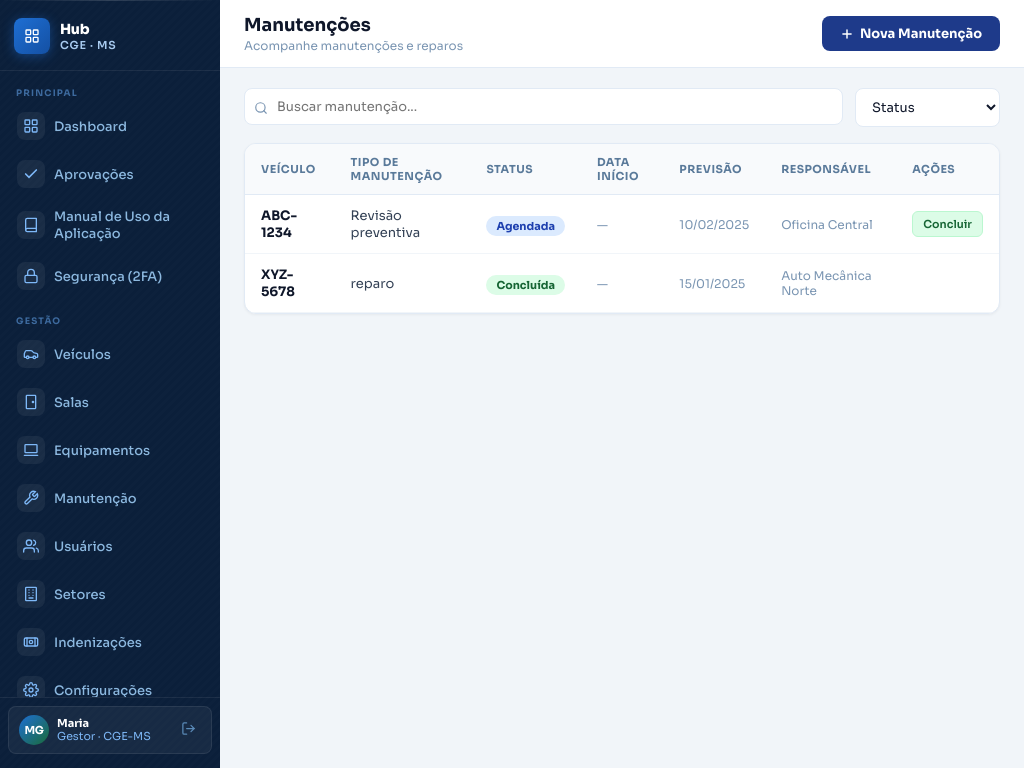
Test: Manutencao — filtros › filtro Todas mostra ambas as manutenções
The image size is (1024, 768).
Expected: the text "ABC-1234" is shown, [245,194,334,254]
Select "Agendada" in the dropdown at (928, 108), box [855,88,1000,127]
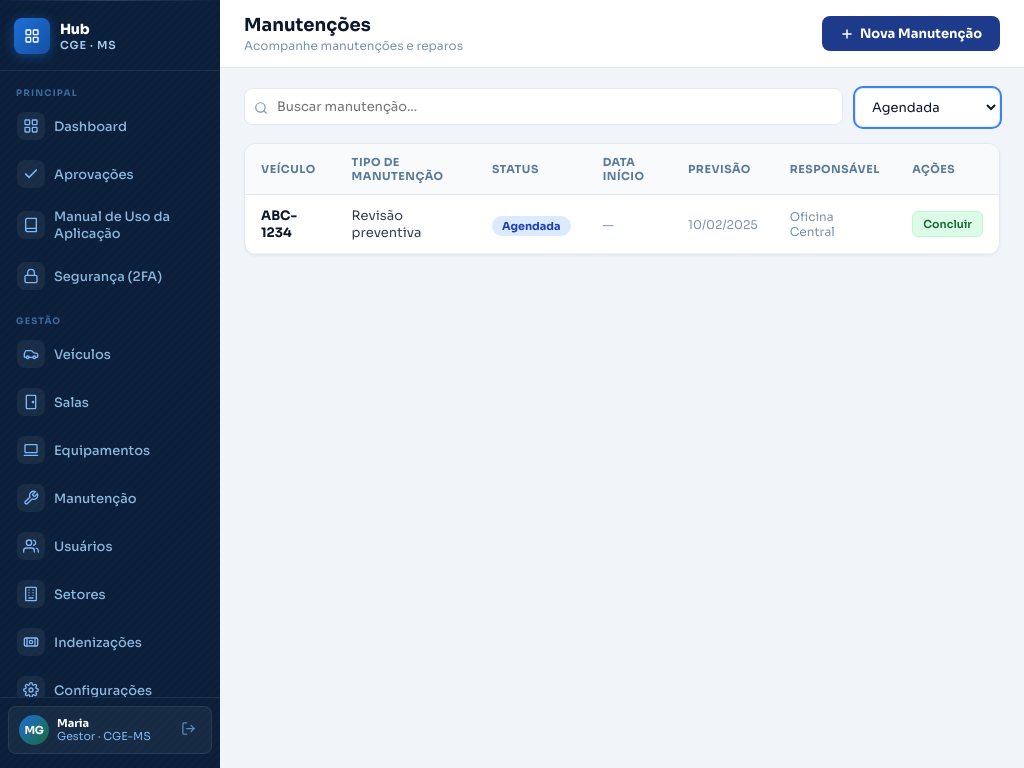
Select "Status" in the dropdown at (928, 108), box [855,88,1000,127]
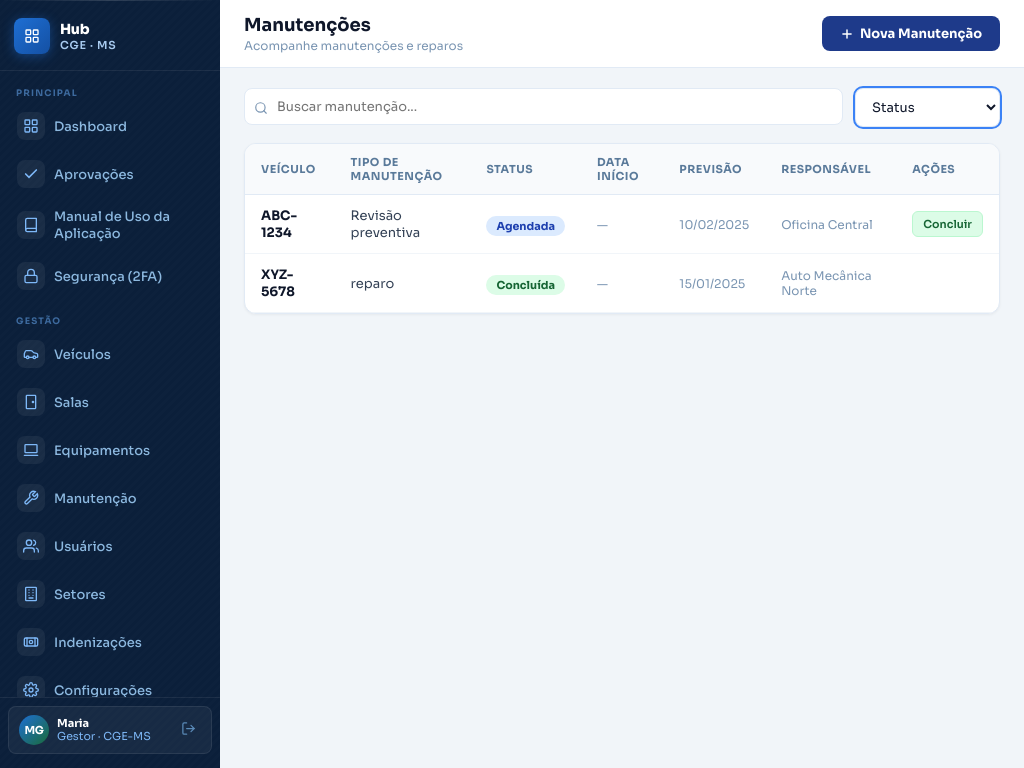
Expected: the text "ABC-1234" is shown, [245,194,334,254]
Expected: the text "XYZ-5678" is shown, [245,254,334,312]
